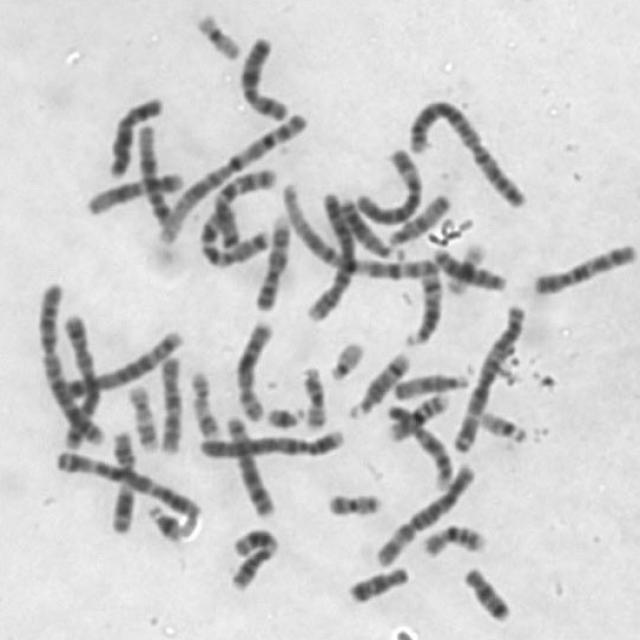A1: (148, 106, 314, 242), (278, 177, 424, 278)
A2: (403, 92, 530, 210), (31, 276, 108, 450)
A3: (446, 296, 530, 455), (49, 445, 202, 520)
B4: (303, 189, 361, 324), (193, 421, 349, 462)
B5: (57, 324, 185, 400), (56, 305, 105, 450)
C10: (524, 235, 639, 298), (154, 347, 187, 456)
C11: (224, 521, 280, 593), (106, 425, 138, 536)
C12: (80, 165, 186, 218), (132, 119, 179, 228)
C6: (369, 458, 477, 568), (350, 142, 426, 226)
C7: (198, 161, 279, 265), (196, 200, 272, 268)
C8: (220, 409, 277, 519), (230, 314, 277, 424)
C9: (382, 398, 455, 490), (250, 208, 293, 313)
D13: (326, 192, 408, 262), (427, 242, 509, 293)
D14: (344, 346, 414, 420), (400, 260, 446, 349)
D15: (383, 188, 454, 248), (388, 364, 472, 402)
E16: (383, 385, 453, 443), (416, 517, 490, 559)
E17: (122, 378, 162, 452), (184, 364, 223, 439)
E18: (459, 560, 515, 623), (342, 559, 412, 606)
F19: (190, 6, 245, 62), (443, 237, 489, 297)
F20: (320, 485, 386, 519), (297, 360, 329, 430)
G21: (142, 498, 188, 544), (260, 399, 308, 431)
G22: (475, 404, 530, 445), (324, 334, 367, 382)
X: (102, 91, 166, 179), (235, 30, 292, 122)
